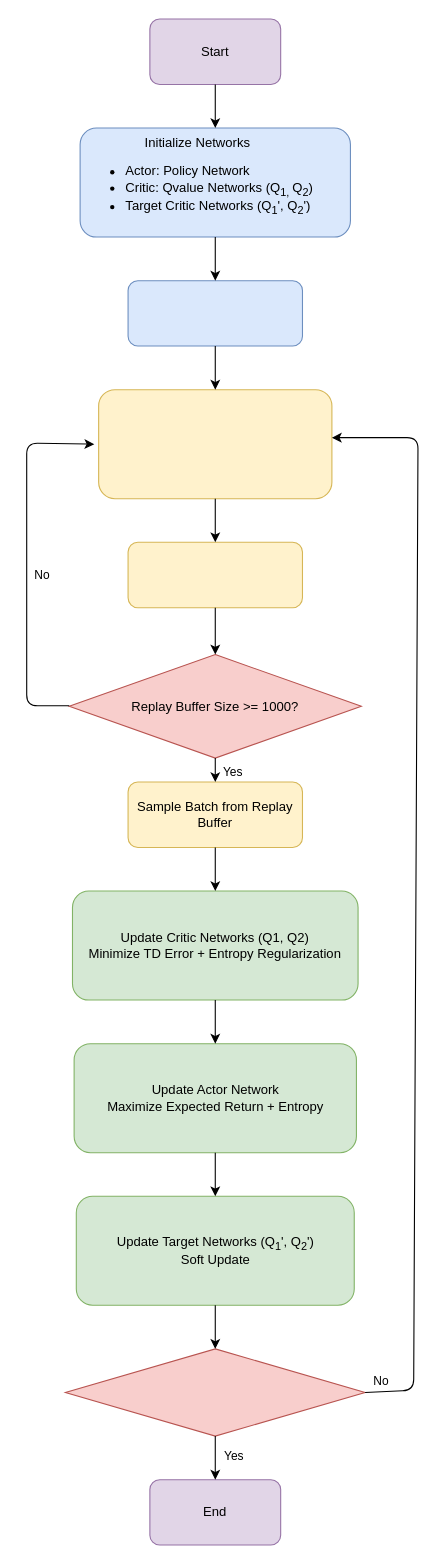
Image size: 446x1564. Some labels were removed from this diagram. Each missing label, with the centre of its shape:
Initialize Replay Buffer: (214,313)
One episode finished End of All Episode?: (214,1392)
Sample Environment State (s) Action (a) Reward (r) Next State (s'): (215,444)
Store Transition (s, a, r, s') in Replay Buffer: (214,574)
